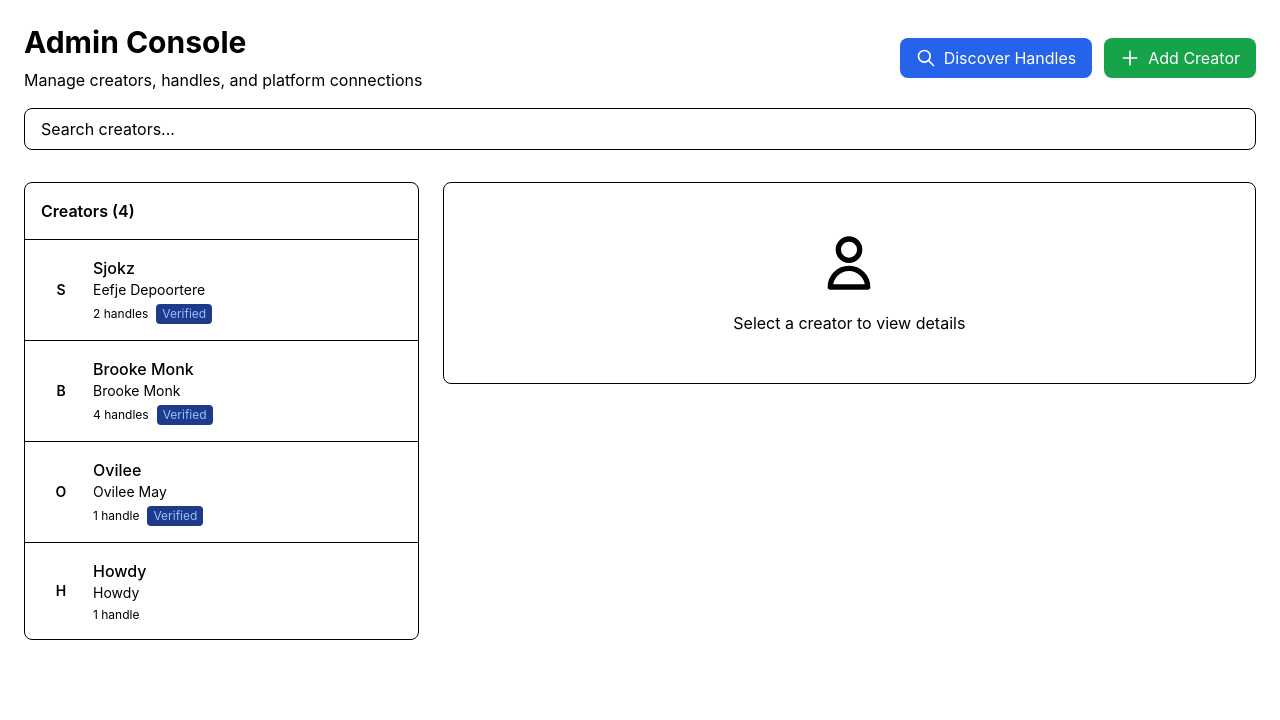
Test: AdminConsole › displays data sources for creators
Click the text "Sjokz".
click(114, 268)  # box [93, 258, 135, 278]
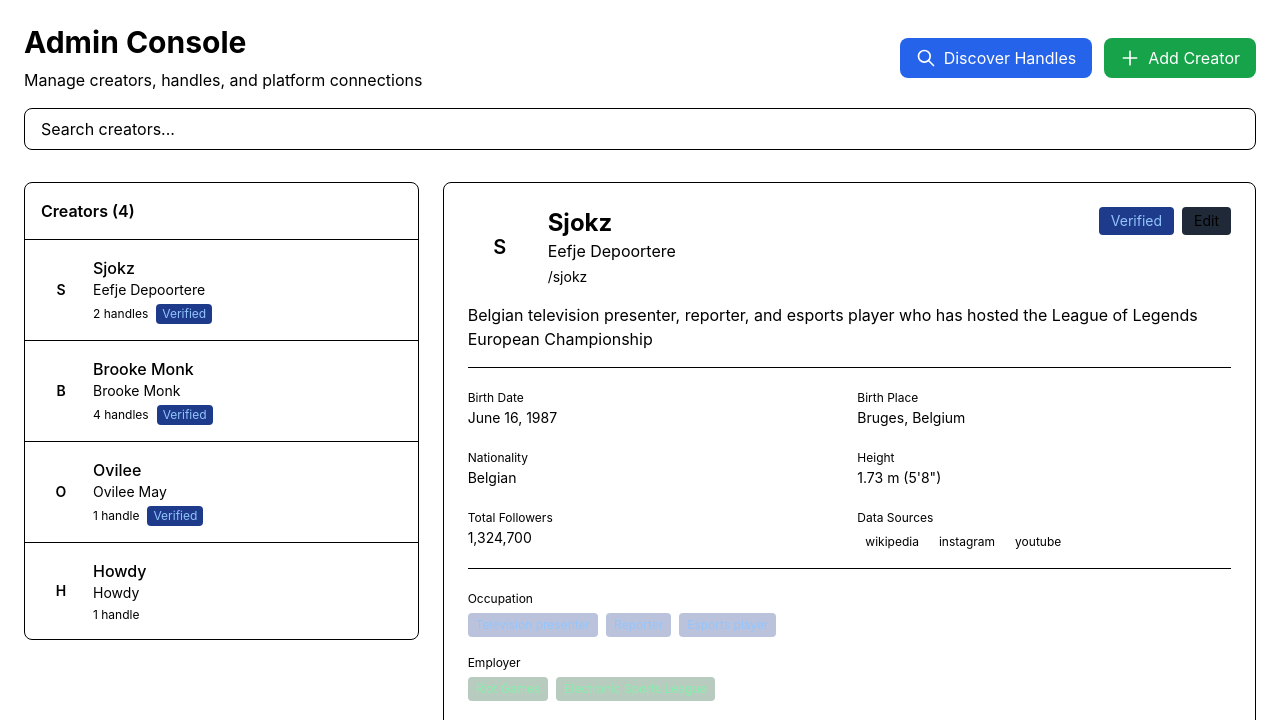
Expected: the text "wikipedia" is shown, [865, 534, 919, 549]
